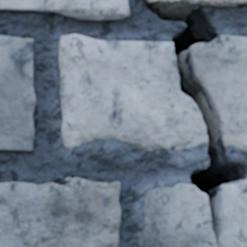brick: (0, 178, 119, 246), (0, 36, 34, 151), (0, 0, 128, 19), (147, 0, 246, 6)
broken_brick: (58, 33, 206, 151), (142, 179, 246, 246), (192, 34, 246, 153)
crack: (146, 2, 246, 244)
